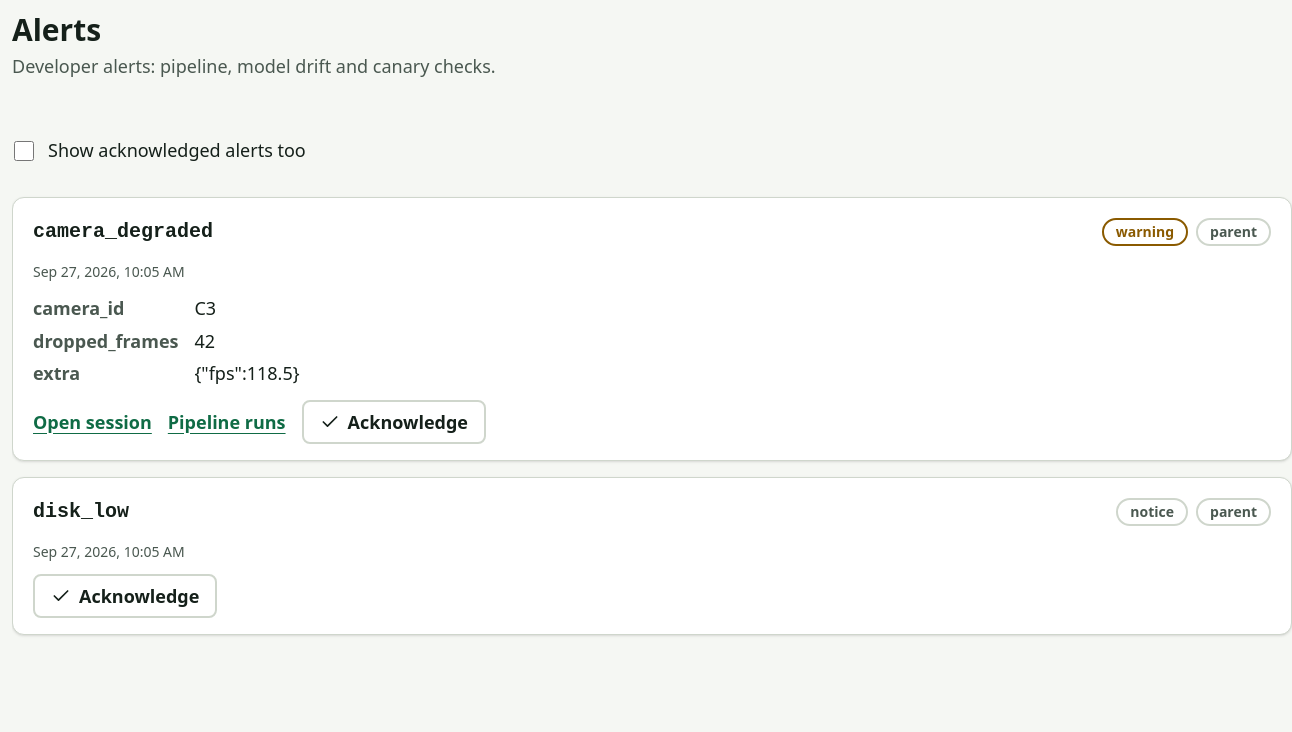
honest states › says when nothing was ever routed to the role
The width and height of the screenshot is (1292, 732).
Expected: the list item with test id "alert-a1" is shown, [12,197,1291,461]
Step 1. Click the checkbox labelled "Show acknowledged alerts too" → click(24, 151), box [12,141,36,161]
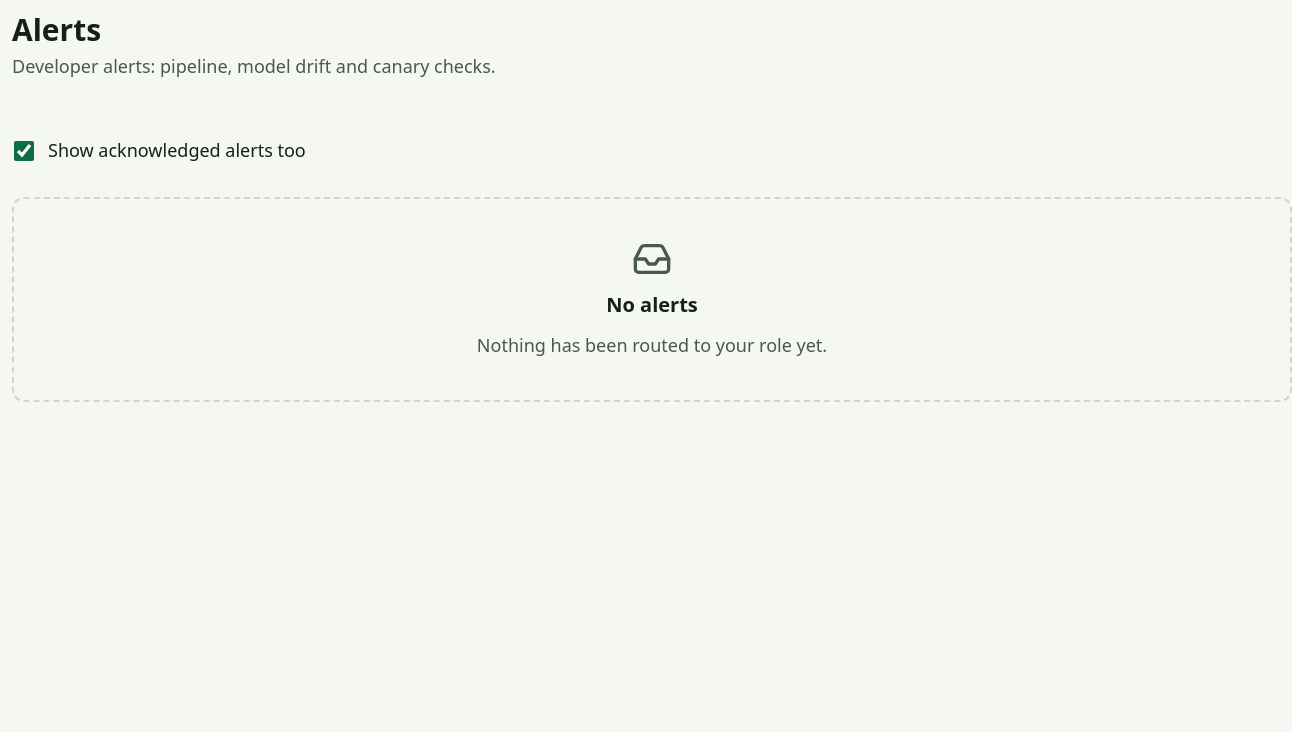
Expected: the heading "No alerts" is shown, [606,291,698,319]
